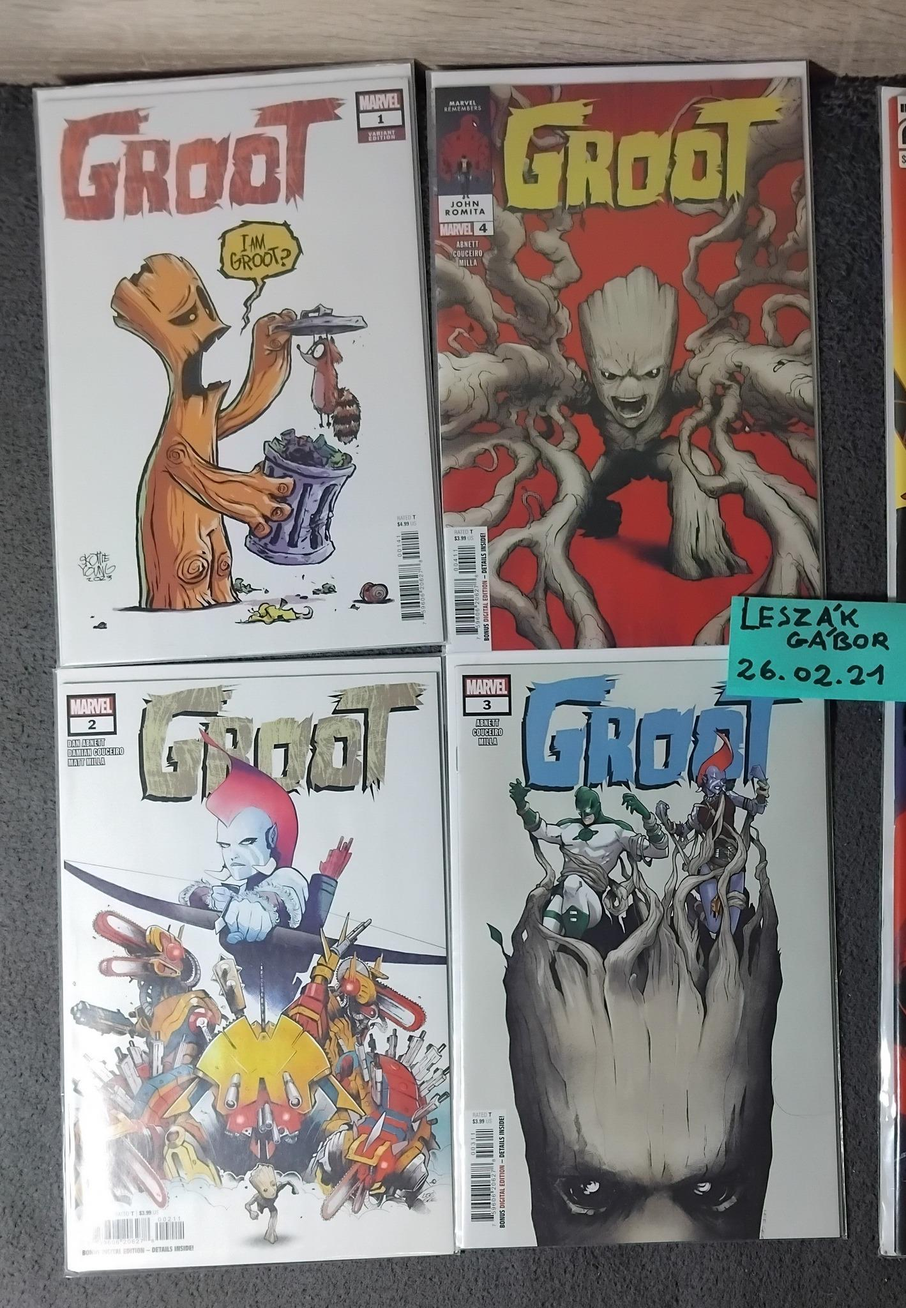comic: (52, 658, 455, 1272), (36, 63, 444, 665), (439, 644, 843, 1248), (426, 58, 827, 654)
